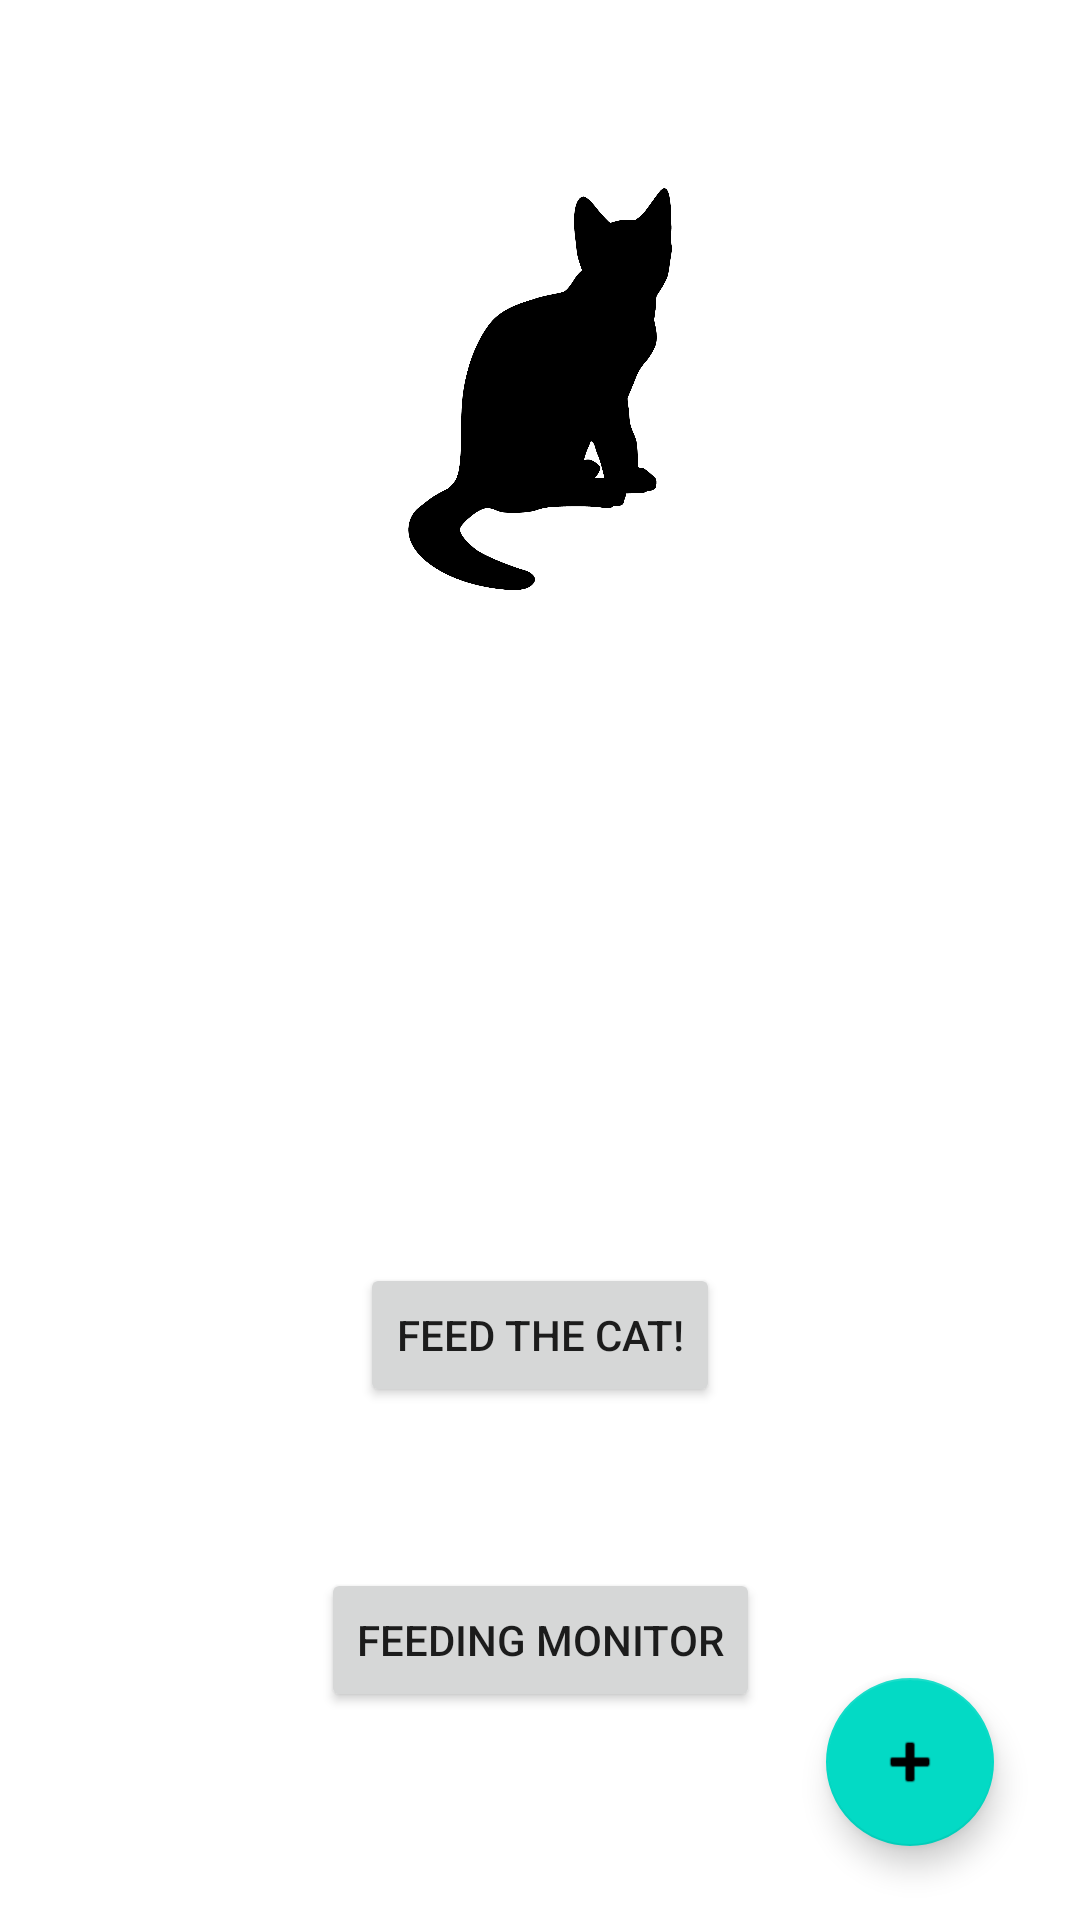

Screen size 1080×1920. Icon name, then its box in pixels as (x1=x1, y1=y1, x2=x2, y2=y2):
add: (x1=826, y1=1678, x2=994, y2=1846)
